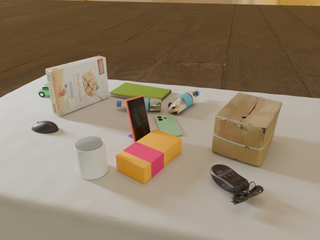book: (109, 83, 171, 101)
bottle: (168, 91, 199, 114), (117, 97, 162, 111)
box: (212, 93, 282, 166), (46, 56, 109, 116), (116, 129, 182, 183)
cup: (74, 136, 108, 180)
mouse: (210, 165, 264, 205), (32, 121, 59, 133)
phone: (125, 95, 150, 142), (155, 115, 182, 137)
toy_car: (38, 83, 50, 97)
